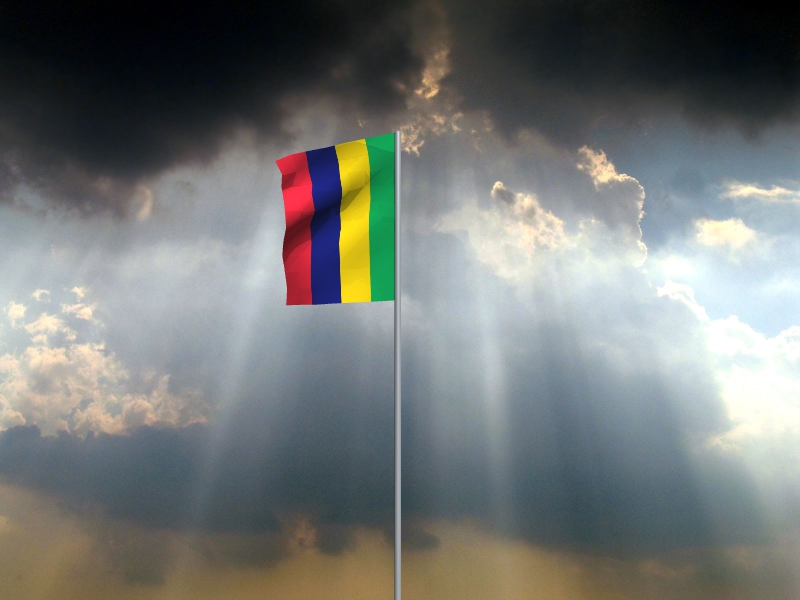mu: (275, 133, 395, 307)
